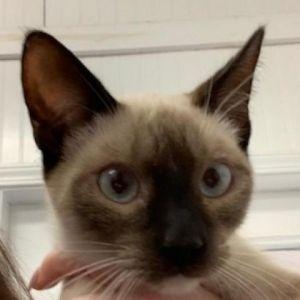siamese: (14, 11, 287, 300)
